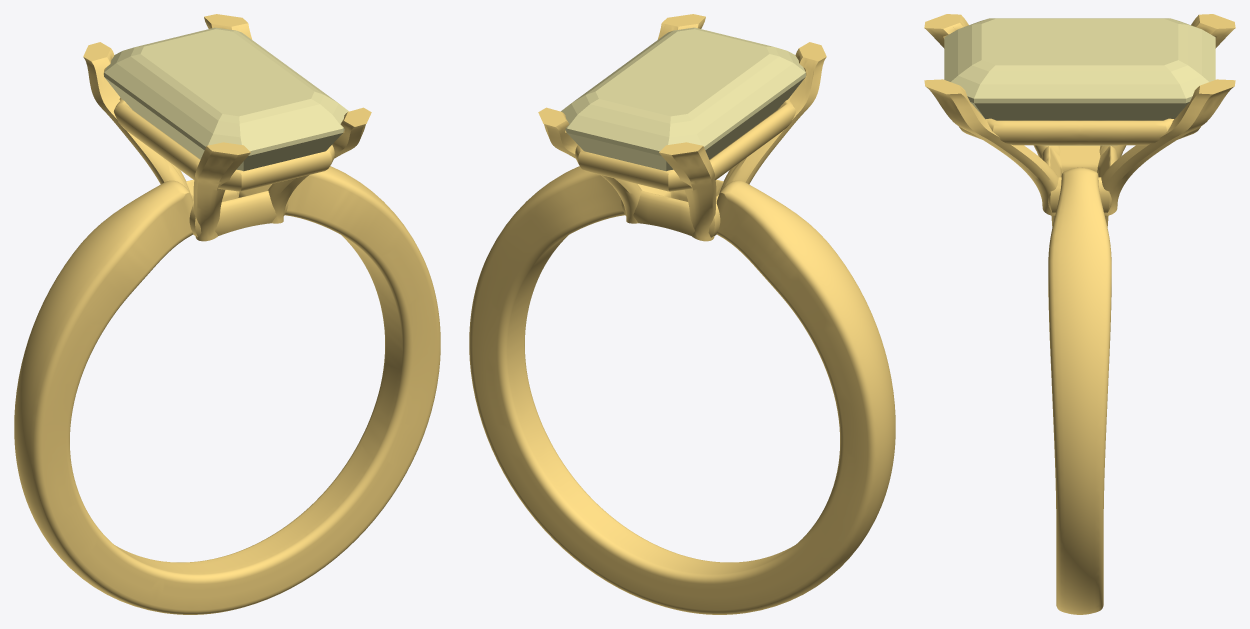
Rendered from NickYGengSolitaire_blender.glb.
3 views of the same model, side by side, from view 1: azimuth 30°, elevation 25°; view 2: azimuth 150°, elevation 25°; view 3: azimuth 270°, elevation 25° (orthographic). The views are drawn at different scales.
Parts seen in each view (by area): view 1: Nick YG for 3d model, Nick dia for 3d model; view 2: Nick YG for 3d model, Nick dia for 3d model; view 3: Nick YG for 3d model, Nick dia for 3d model.
Boxes of the visible parts, x1,y1,x2,y2 form: Nick YG for 3d model: [14, 14, 440, 614]; Nick dia for 3d model: [104, 27, 348, 171]; Nick YG for 3d model: [469, 14, 895, 614]; Nick dia for 3d model: [561, 27, 805, 171]; Nick YG for 3d model: [924, 14, 1235, 614]; Nick dia for 3d model: [944, 18, 1215, 145].
Size of the model in its own units: 18.66 by 22.99 by 11.79.
